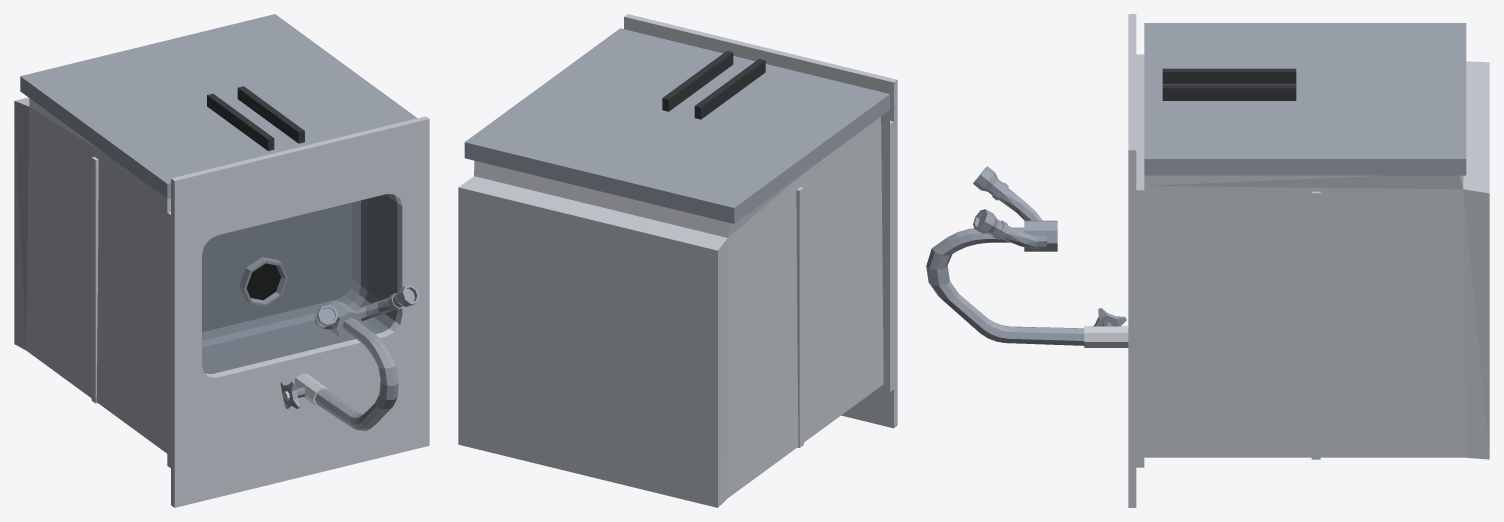
File: counter_counter_sink.obj
3 views of the same model, side by side, from view 1: azimuth 30°, elevation 25°; view 2: azimuth 150°, elevation 25°; view 3: azimuth 270°, elevation 25° (orthographic). The views are drawn at different scales.
Parts seen in each view (by area): view 1: Cube.385, Cube.415, Cube.416, Cube.430, Cylinder.604; view 2: Cube.385, Cube.415, Cube.416; view 3: Cube.385, Cube.416, Cube.415, Cube.430, Cylinder.604.
Boxes of the visible parts, x1,y1,x2,y2 form: Cube.385: [14, 97, 429, 507]; Cube.415: [20, 45, 289, 198]; Cube.416: [148, 14, 416, 149]; Cube.430: [315, 318, 398, 430]; Cylinder.604: [315, 285, 419, 339]; Cube.385: [458, 14, 897, 507]; Cube.415: [599, 59, 889, 223]; Cube.416: [464, 28, 754, 190]; Cube.385: [1084, 14, 1489, 507]; Cube.416: [1144, 85, 1466, 175]; Cube.415: [1144, 23, 1466, 90]; Cube.430: [926, 227, 1084, 345]; Cylinder.604: [973, 166, 1057, 251].
Bounding box in the file's own units: 0.6202 × 0.7673 × 1.08.
Materials: 1 (1 with a texture image).
